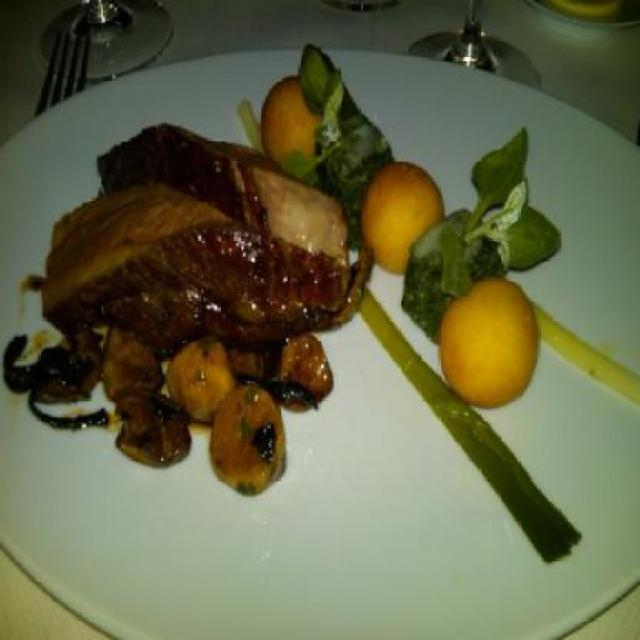Steak: (53, 157, 364, 470)
